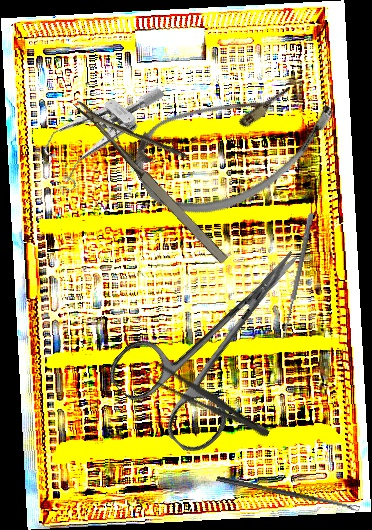Cannula: (118, 41, 350, 243)
Dressing Forceps: (137, 356, 275, 444)
Iris Scissors: (101, 213, 345, 462)
Needle Holder: (73, 70, 255, 269)
Speculum: (25, 54, 166, 204)
Surgical Spoon: (215, 475, 361, 513), (281, 212, 314, 340)
